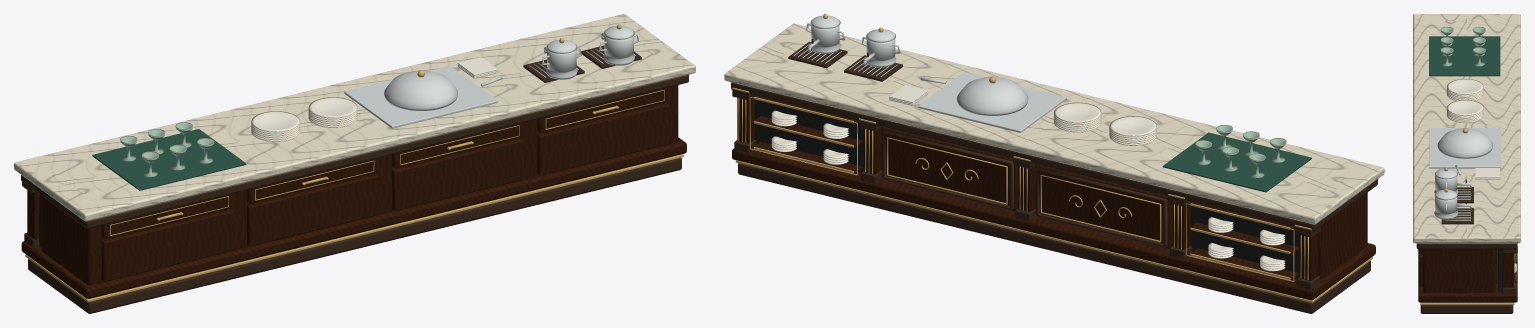
Rendered from hotel-service-counter.glb.
3 views of the same model, side by side, from view 1: azimuth 30°, elevation 25°; view 2: azimuth 150°, elevation 25°; view 3: azimuth 270°, elevation 25° (orthographic). The views are drawn at different scales.
Parts seen in each view (by area): view 1: Bookmatched French walnut, Honed ivory marble, Carved ebony walnut, Polished service silver, Champagne brass inlay, Forest green service leather, Ivory porcelain, Smoke green stemware; view 2: Bookmatched French walnut, Honed ivory marble, Carved ebony walnut, Champagne brass inlay, Polished service silver, Ivory porcelain, Cabinet interior shadow, Forest green service leather, Smoke green stemware; view 3: Honed ivory marble, Bookmatched French walnut, Polished service silver, Carved ebony walnut, Forest green service leather, Ivory porcelain, Champagne brass inlay, Smoke green stemware, Cabinet interior shadow.
Boxes of the visible parts, <box> form: Bookmatched French walnut: <box>21,85,686,298</box>; Honed ivory marble: <box>14,14,695,221</box>; Carved ebony walnut: <box>21,45,688,313</box>; Polished service silver: <box>344,26,638,128</box>; Champagne brass inlay: <box>25,24,689,302</box>; Forest green service leather: <box>92,129,246,190</box>; Ivory porcelain: <box>251,57,497,141</box>; Smoke green stemware: <box>120,122,214,177</box>; Bookmatched French walnut: <box>732,95,1375,300</box>; Honed ivory marble: <box>724,23,1384,224</box>; Carved ebony walnut: <box>731,39,1377,313</box>; Champagne brass inlay: <box>730,14,1372,302</box>; Polished service silver: <box>793,15,1066,132</box>; Ivory porcelain: <box>771,85,1285,271</box>; Cabinet interior shadow: <box>755,100,1299,279</box>; Forest green service leather: <box>1162,132,1311,192</box>; Smoke green stemware: <box>1195,125,1286,178</box>; Honed ivory marble: <box>1413,14,1520,243</box>; Bookmatched French walnut: <box>1418,249,1517,302</box>; Polished service silver: <box>1429,128,1501,220</box>; Carved ebony walnut: <box>1416,179,1517,313</box>; Forest green service leather: <box>1429,36,1500,76</box>; Ivory porcelain: <box>1446,79,1516,272</box>; Champagne brass inlay: <box>1416,26,1517,304</box>; Smoke green stemware: <box>1440,27,1485,66</box>; Cabinet interior shadow: <box>1498,249,1502,291</box>.
Bounding box in the file's own units: 6.4 × 1.45 × 1.3.
Materials: 9 (2 with a texture image).
